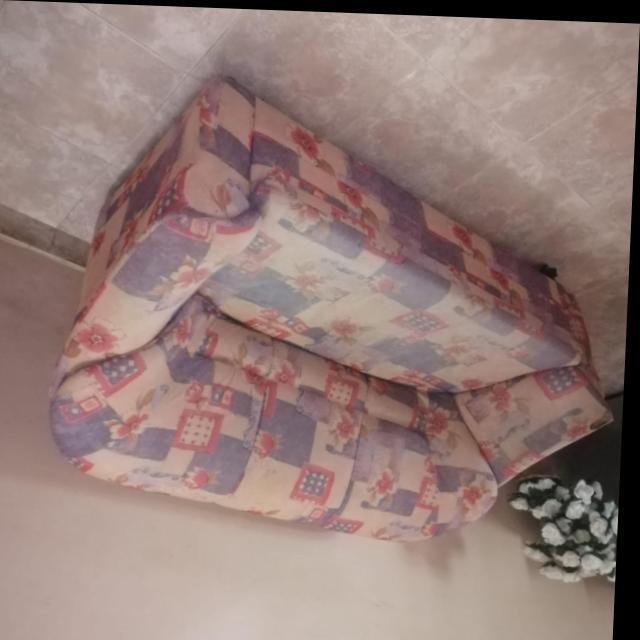Sofa: (49, 68, 631, 544)
